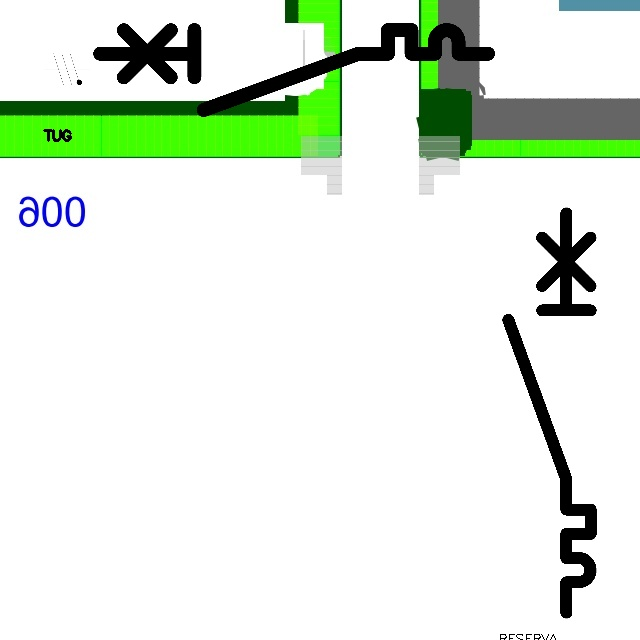interruptor_termomagnetico: (498, 203, 601, 623), (90, 20, 498, 120)
